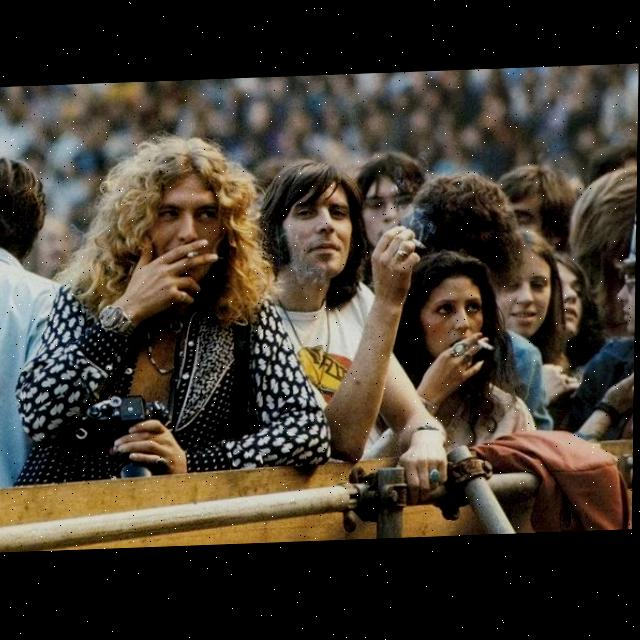cigarette: (479, 344, 497, 355), (412, 242, 428, 253), (188, 254, 198, 259)
